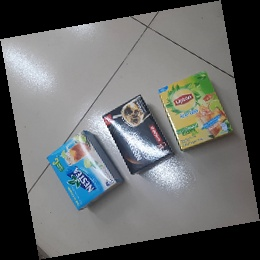CF Viet: (103, 95, 176, 175)
LipTon: (159, 70, 234, 150)
Nestea: (46, 129, 122, 211)
